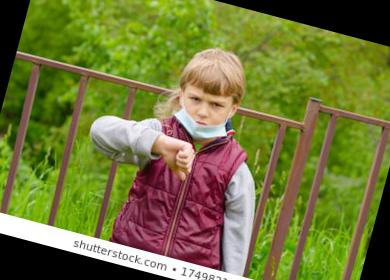mask_weared_incorrect: (174, 87, 235, 142)
